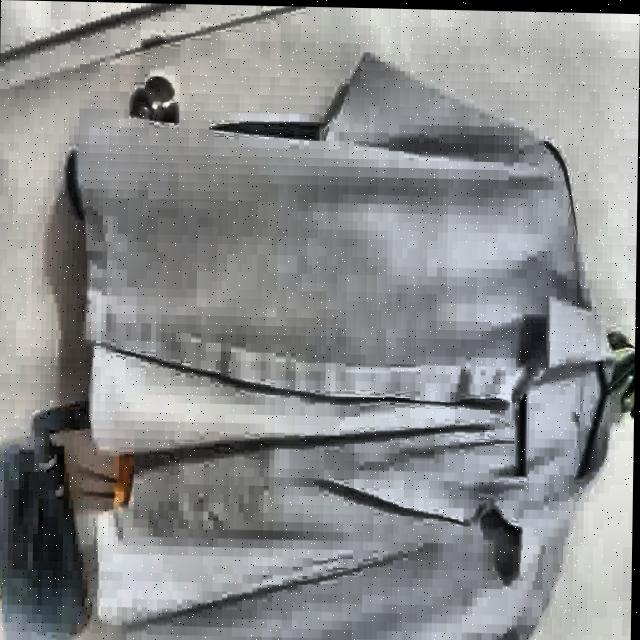clothes: (60, 54, 620, 640)
